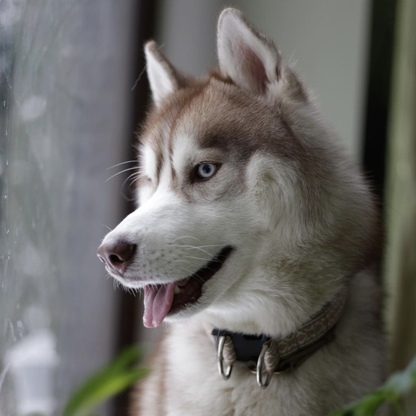husky: (88, 3, 397, 416)
